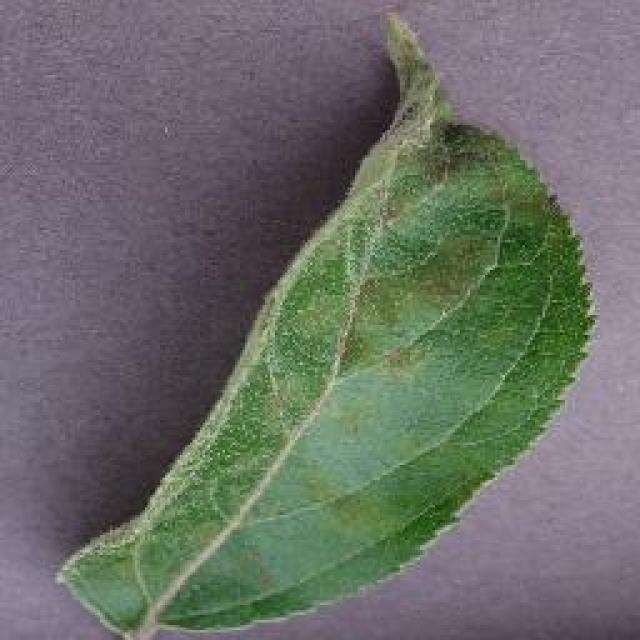apple scab disease: (52, 8, 600, 638)
